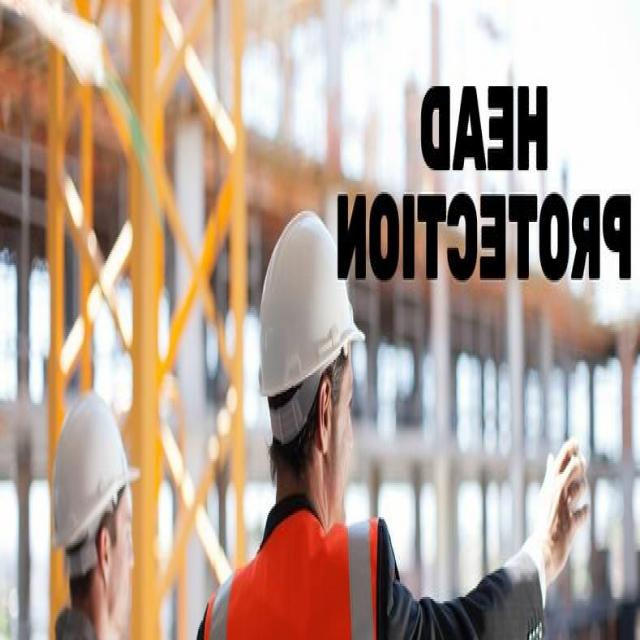Reflective-Jacket: (203, 504, 386, 640)
Safety-Helmet: (253, 196, 363, 412), (46, 377, 140, 556)
